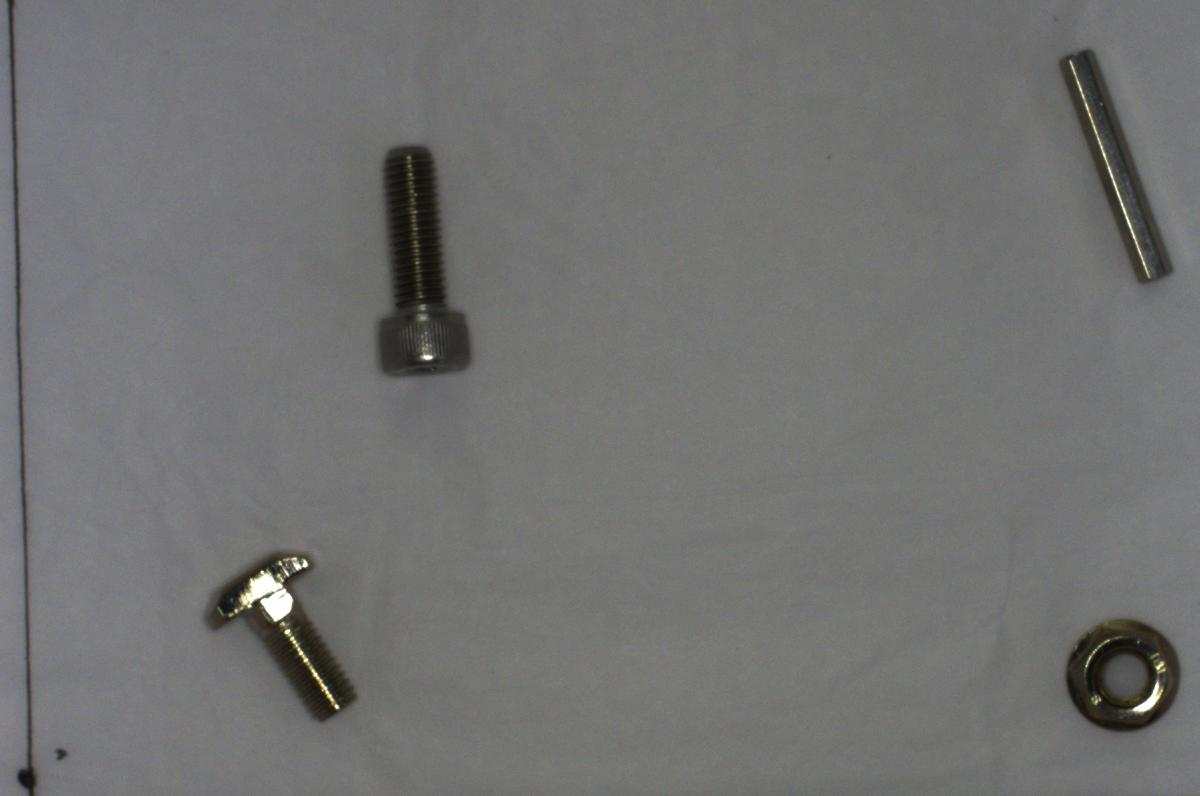Double hexagonal column: (1040, 39, 1178, 290)
Flange nut: (1053, 610, 1185, 736)
Hexagon screw: (361, 134, 482, 389)
T-shaped screw: (190, 540, 368, 732)
